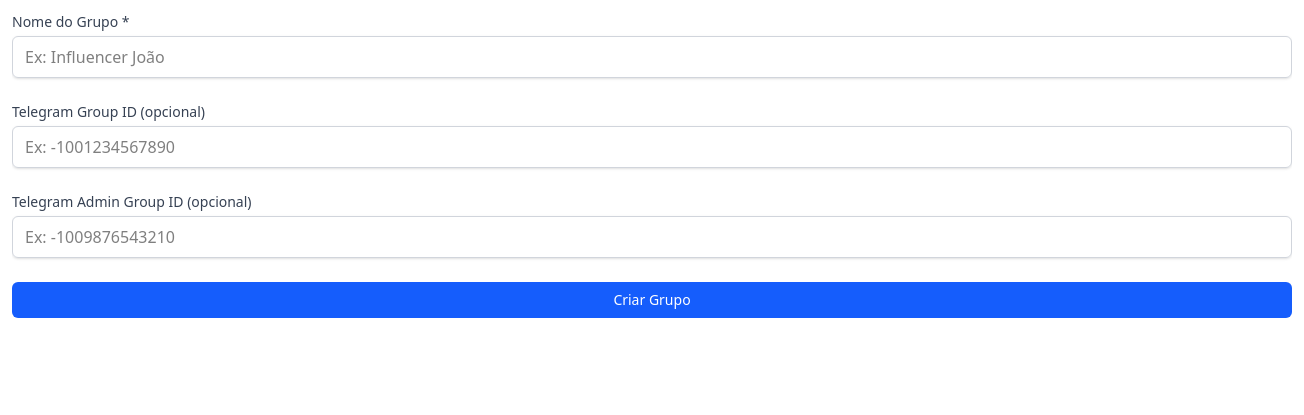
Test: GroupForm › shows validation error for short name
The image size is (1304, 415).
In the field labelled "Nome do Grupo *": (652,57) top-left (12, 36), bottom-right (1292, 78), type "A"
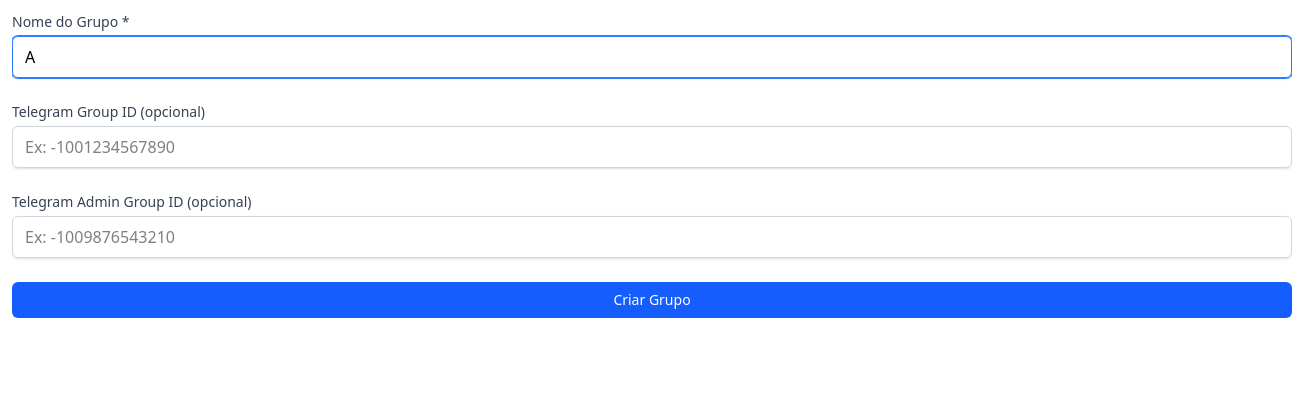
Click the button "Criar Grupo": (652,300) top-left (12, 282), bottom-right (1292, 318)
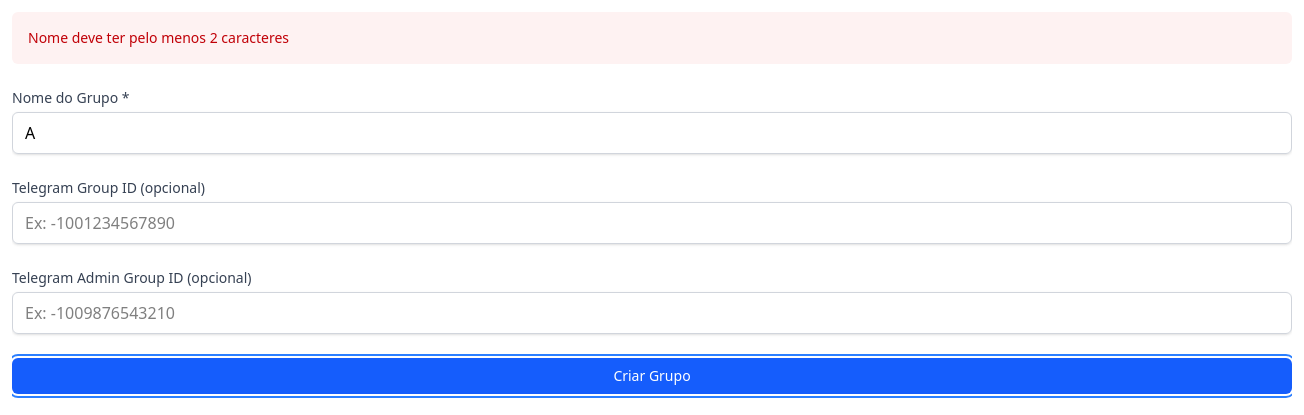
expect the text "Nome deve ter pelo menos 2 caracteres" is shown: met, box top-left (28, 28), bottom-right (289, 47)
